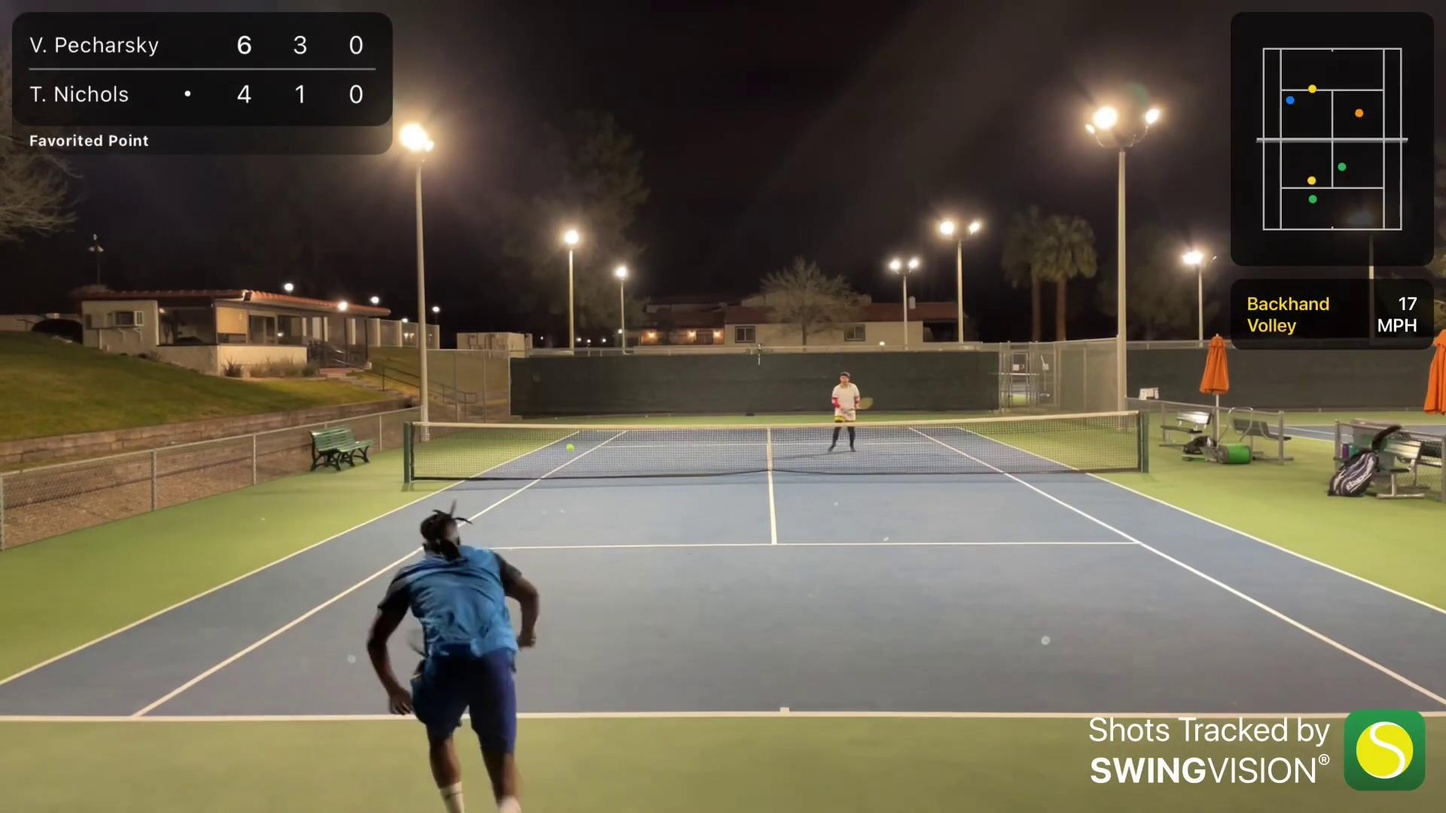ball: (562, 440, 573, 454)
